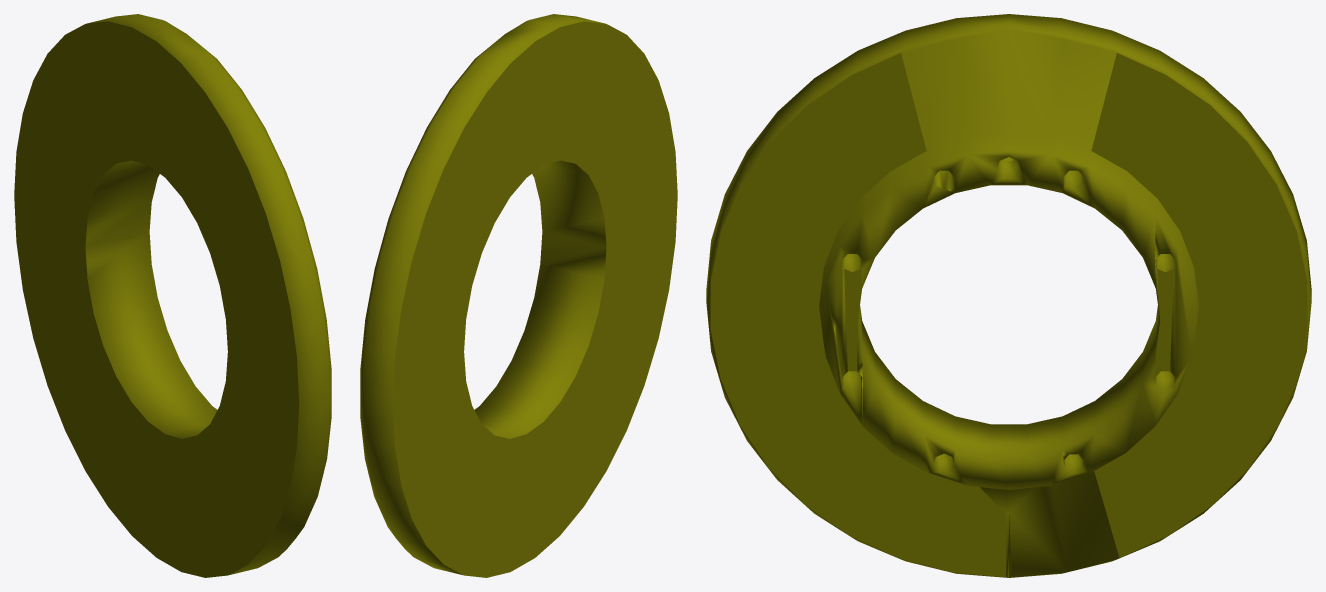
3 renders of one model, left to right at view 1: azimuth 30°, elevation 25°; view 2: azimuth 150°, elevation 25°; view 3: azimuth 270°, elevation 25°, orthographic. The views are drawn at different scales.
Visible parts, largest first — view 1: mesh_shell_11__LOD_0_.006; view 2: mesh_shell_11__LOD_0_.006; view 3: mesh_shell_11__LOD_0_.006.
Boxes of the visible parts, x1,y1,x2,y2 form: mesh_shell_11__LOD_0_.006: (14, 14, 331, 577); mesh_shell_11__LOD_0_.006: (360, 14, 677, 577); mesh_shell_11__LOD_0_.006: (706, 14, 1311, 577).
Bounding box in the file's own units: 0.013 × 0.1 × 0.1.
